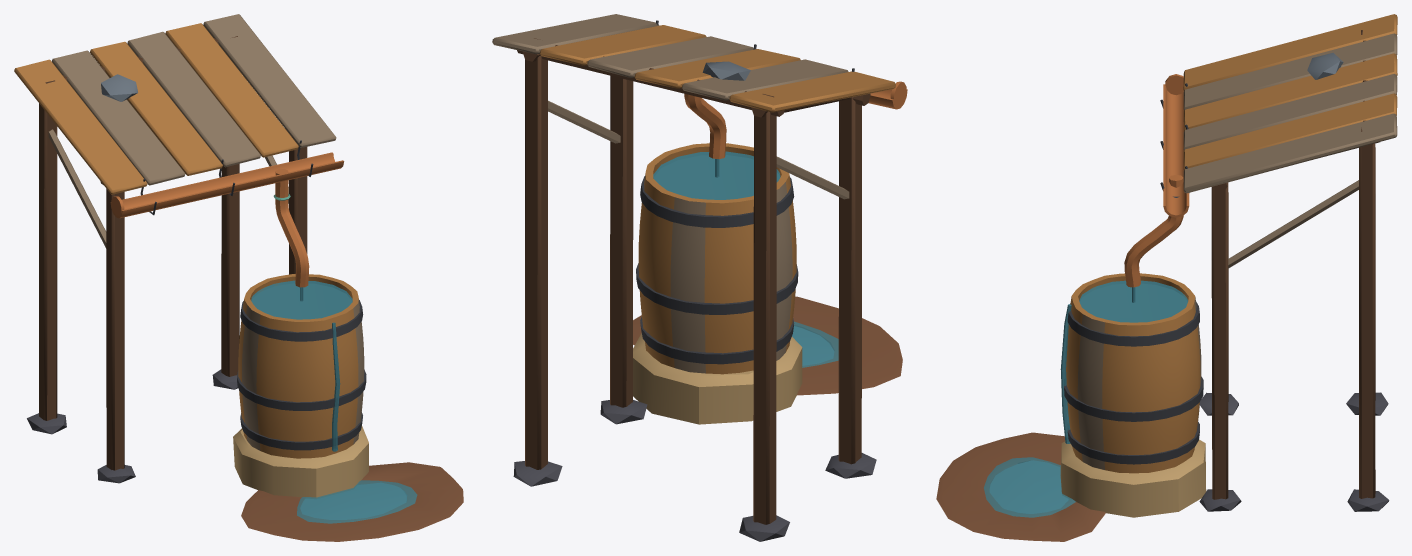
Rendered from deco_rain_barrel.fbx.
3 views of the same model, side by side, from view 1: azimuth 30°, elevation 25°; view 2: azimuth 150°, elevation 25°; view 3: azimuth 270°, elevation 25° (orthographic). The views are drawn at different scales.
Visible parts, largest first — view 1: RainBarrel_Stand, RainBarrel_Barrel, RainBarrel_Puddle, RainBarrel_Gutter; view 2: RainBarrel_Stand, RainBarrel_Barrel, RainBarrel_Puddle, RainBarrel_Gutter; view 3: RainBarrel_Stand, RainBarrel_Barrel, RainBarrel_Puddle, RainBarrel_Gutter.
Boxes of the visible parts, x1,y1,x2,y2 form: RainBarrel_Stand: (14, 14, 368, 498); RainBarrel_Barrel: (237, 274, 366, 458); RainBarrel_Puddle: (241, 462, 463, 541); RainBarrel_Gutter: (110, 140, 344, 301); RainBarrel_Stand: (492, 14, 895, 541); RainBarrel_Barrel: (636, 143, 798, 374); RainBarrel_Puddle: (633, 296, 902, 395); RainBarrel_Gutter: (656, 20, 907, 177); RainBarrel_Stand: (1060, 14, 1397, 517); RainBarrel_Barrel: (1060, 273, 1203, 473); RainBarrel_Puddle: (936, 432, 1105, 541); RainBarrel_Gutter: (1124, 74, 1189, 302).
Size of the model in its own units: 210 by 260 by 283.
